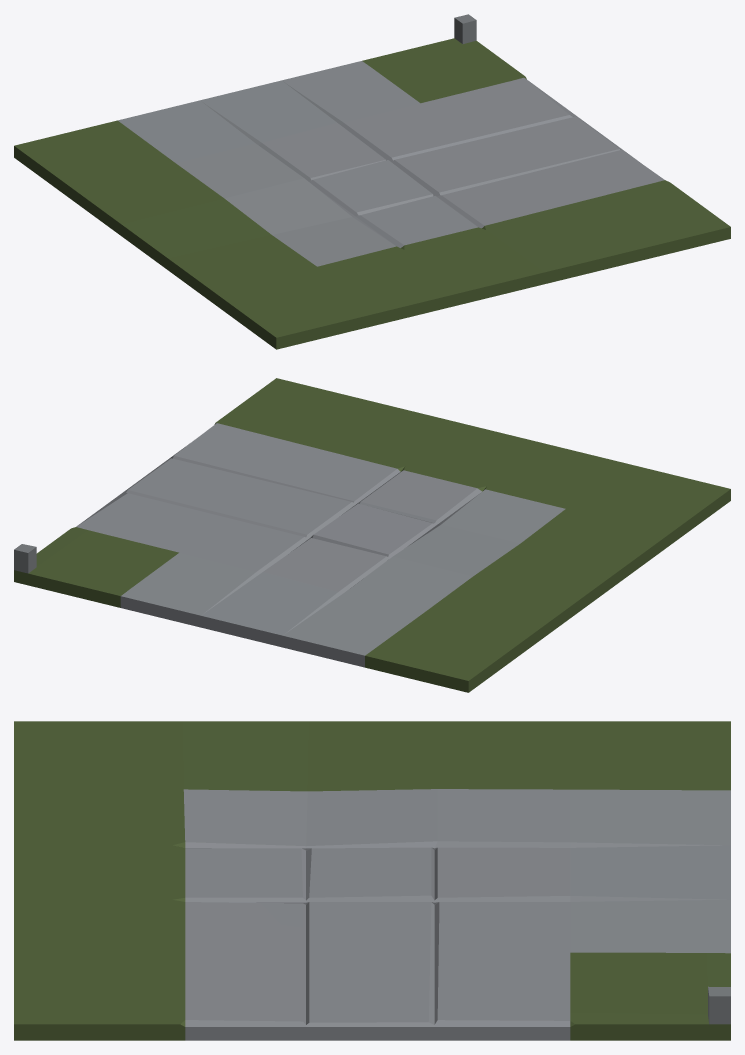
File: Road_013-col.glb
The picture shows the model from 3 angles, top to bottom: view 1: azimuth 30°, elevation 25°; view 2: azimuth 150°, elevation 25°; view 3: azimuth 270°, elevation 25°; orthographic projection. The views are drawn at different scales.
Visible parts, largest first — view 1: Sidewalk_02_C-col; view 2: Sidewalk_02_C-col; view 3: Sidewalk_02_C-col.
Boxes of the visible parts, x1,y1,x2,y2 form: Sidewalk_02_C-col: [14, 14, 730, 349]; Sidewalk_02_C-col: [14, 378, 730, 692]; Sidewalk_02_C-col: [14, 721, 730, 1040].
Bounding box in the file's own units: 2 × 0.1367 × 2.
Materials: 1 (1 with a texture image).
